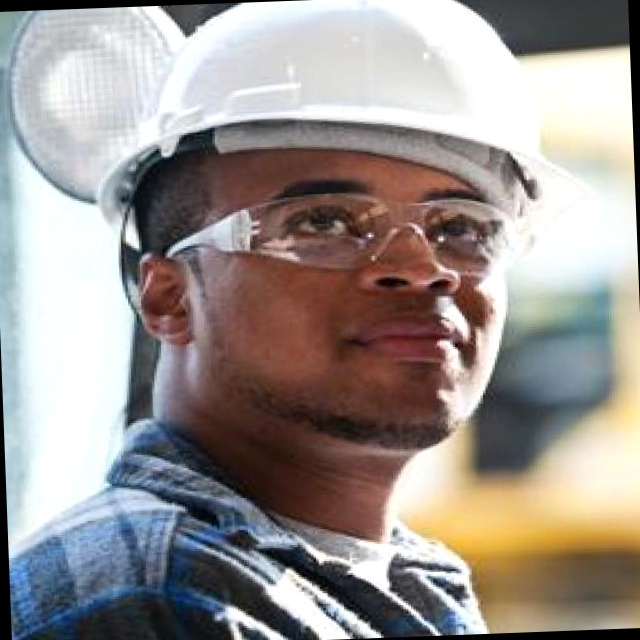goggles: (133, 200, 533, 268)
helmet: (93, 12, 604, 250)
